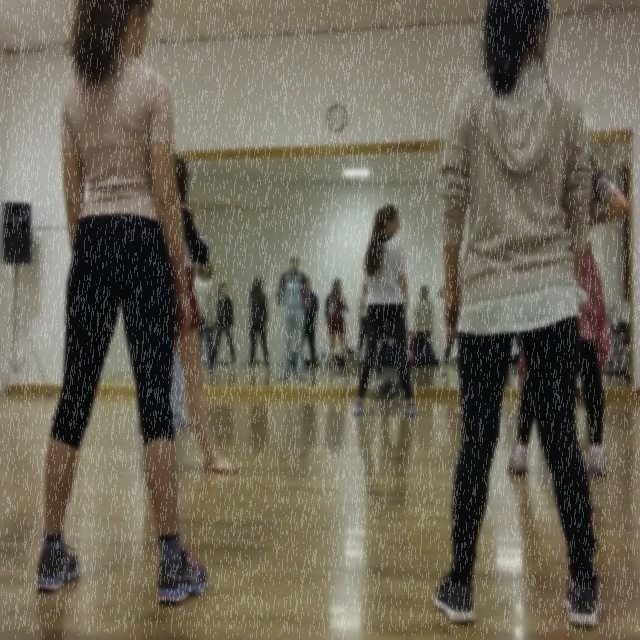pessoa: (27, 0, 214, 607), (432, 1, 604, 632), (195, 249, 512, 390), (504, 148, 630, 478), (168, 151, 241, 475), (352, 202, 419, 416), (132, 358, 193, 432)
